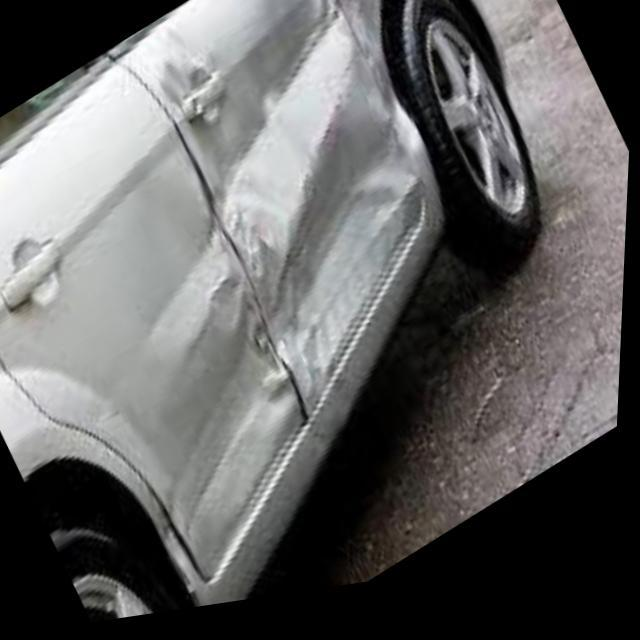dent: (91, 0, 456, 611)
